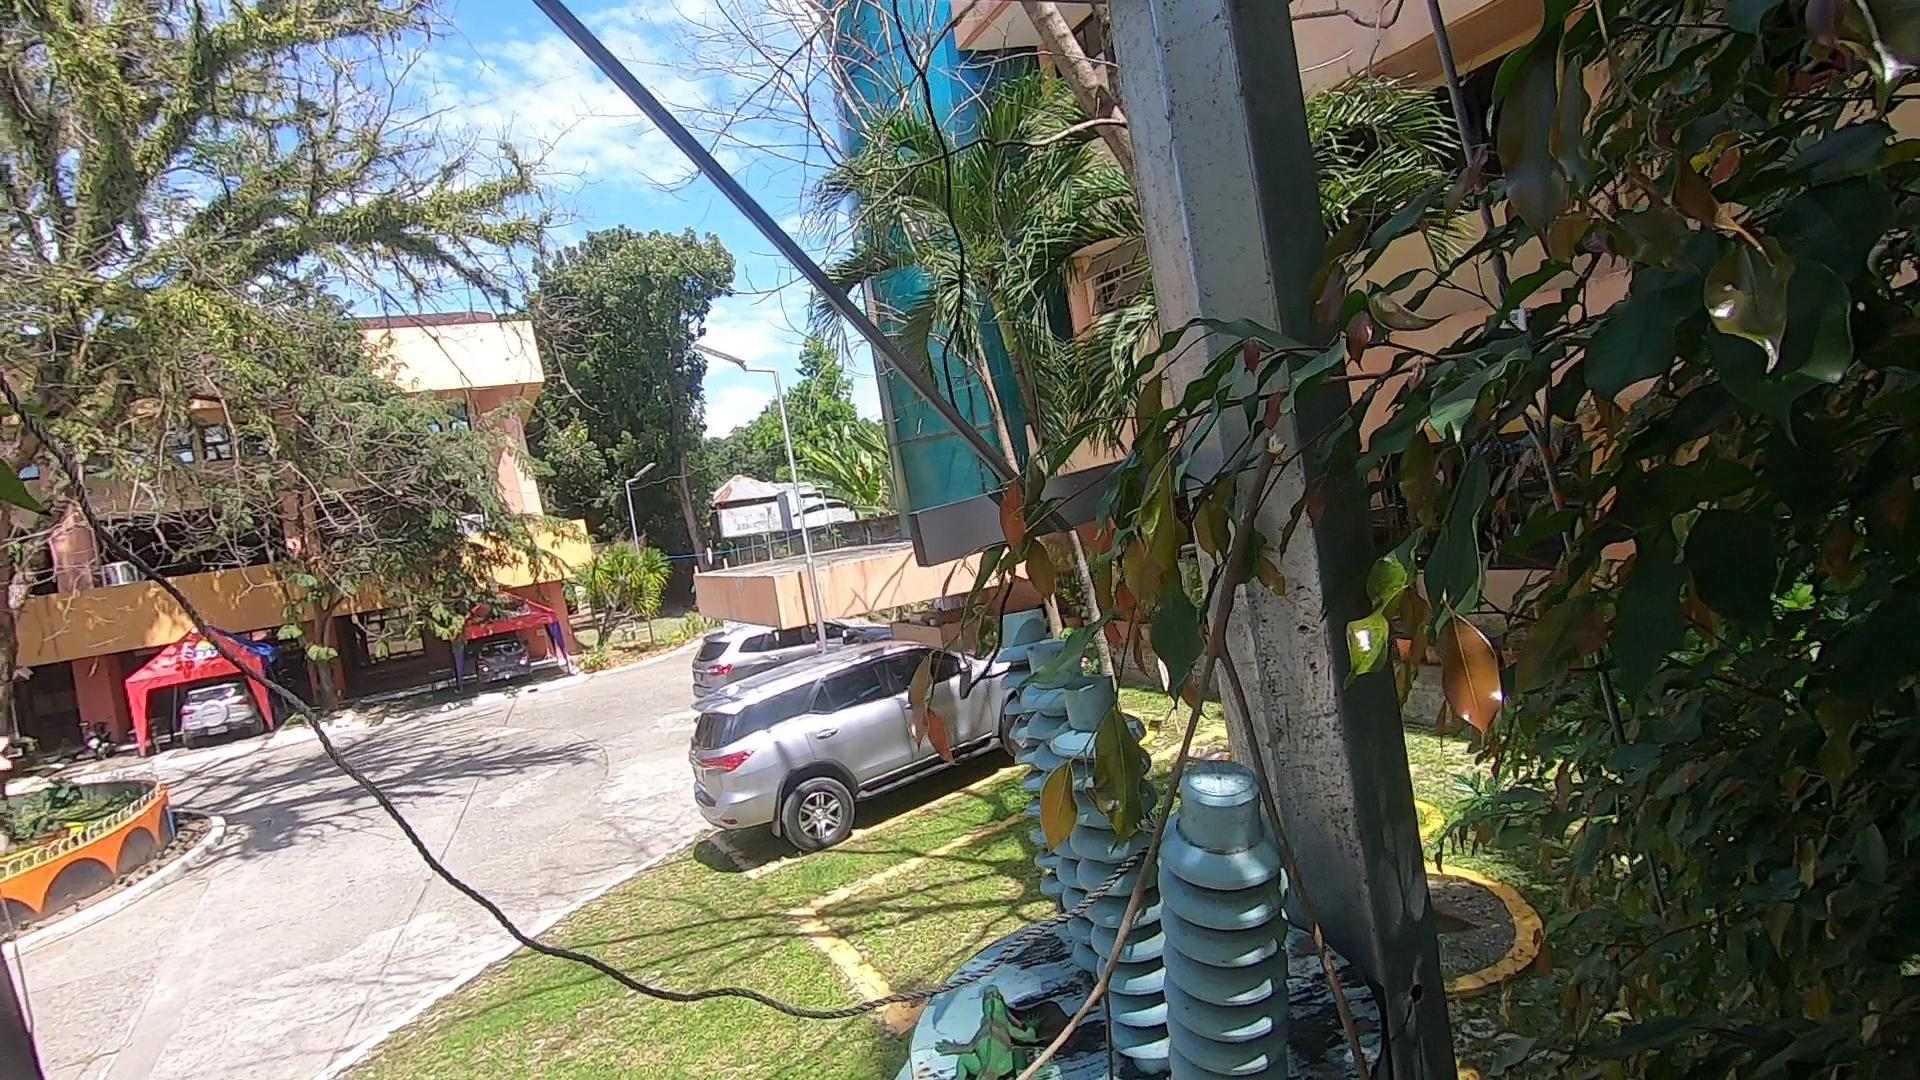leaf: (1015, 997, 1079, 1051)
tree branch: (1002, 415, 1398, 1080)
